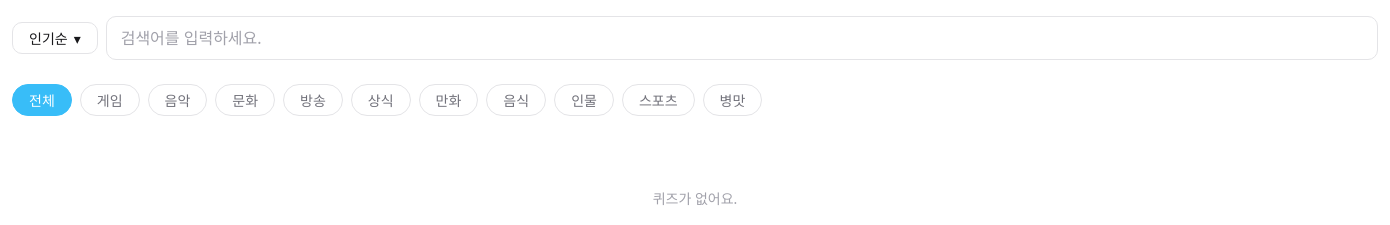
MainPage › 빈 상태 분기 › 검색 중 빈 결과면 "검색 결과가 없어요." 를 보여준다
Type "없는검색어" into the field with placeholder "검색어를 입력하세요.".
click(742, 38); type("없는검색어")  # box x1=106 y1=16 x2=1378 y2=60
Wait 300 ms
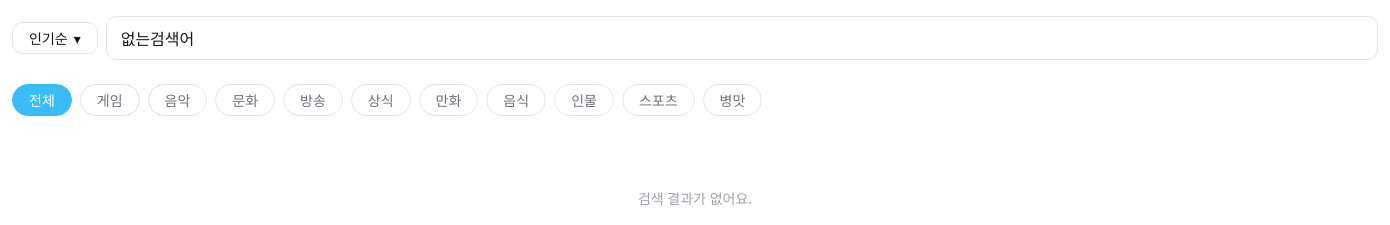
Expected: the text "검색 결과가 없어요." is shown, x1=638 y1=189 x2=752 y2=208
